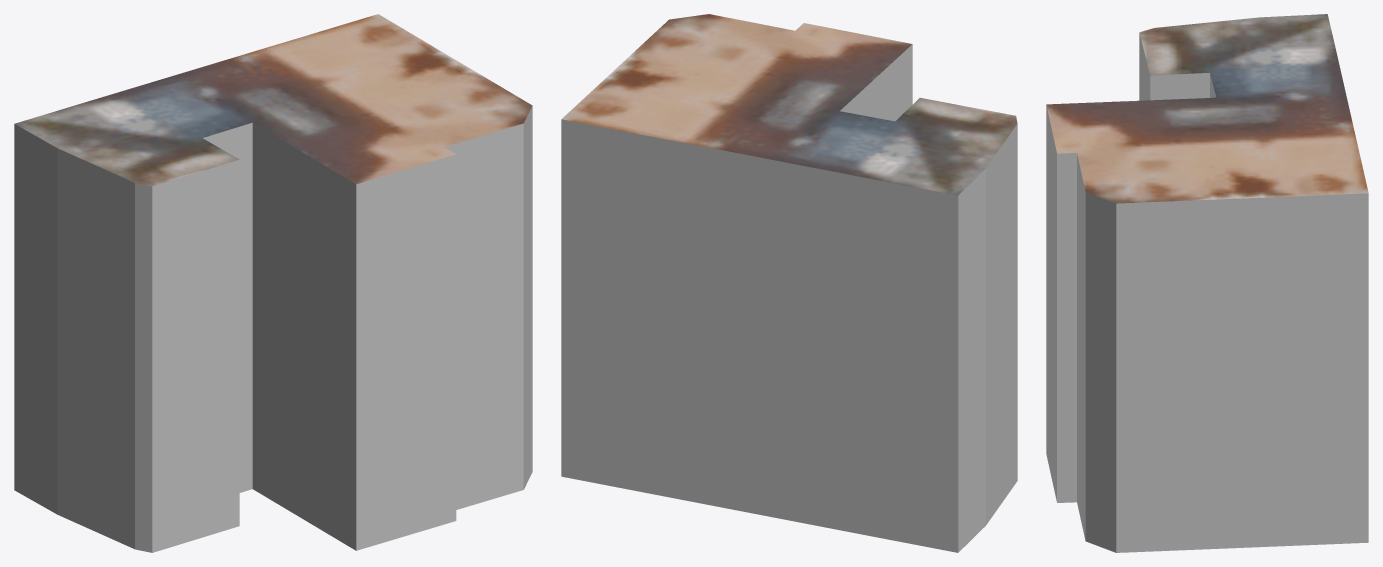
File: DEBW_0010007Tx8w.gltf
The picture shows the model from 3 angles, left to right: view 1: azimuth 30°, elevation 25°; view 2: azimuth 150°, elevation 25°; view 3: azimuth 270°, elevation 25°; orthographic projection. The views are drawn at different scales.
Parts seen in each view (by area): view 1: Z_UP; view 2: Z_UP; view 3: Z_UP.
Boxes of the visible parts, bbox=[...] form: Z_UP: bbox=[14, 14, 532, 552]; Z_UP: bbox=[561, 14, 1017, 552]; Z_UP: bbox=[1046, 14, 1368, 552].
Size of the model in its own units: 17.82 by 15.32 by 12.81.
2 materials, 1 textured.
